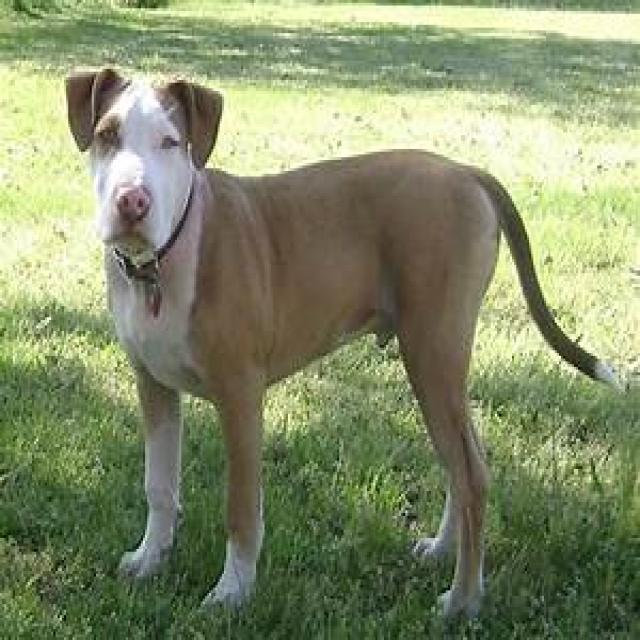dog: (62, 66, 627, 623)
